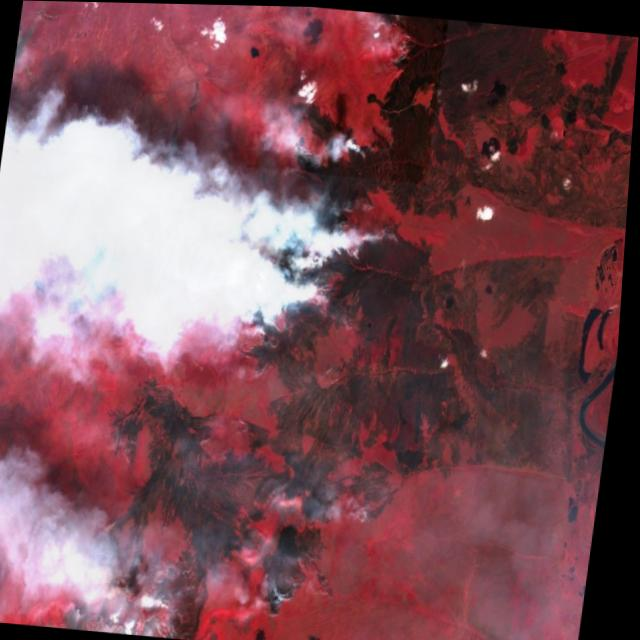fire: (76, 2, 471, 640)
